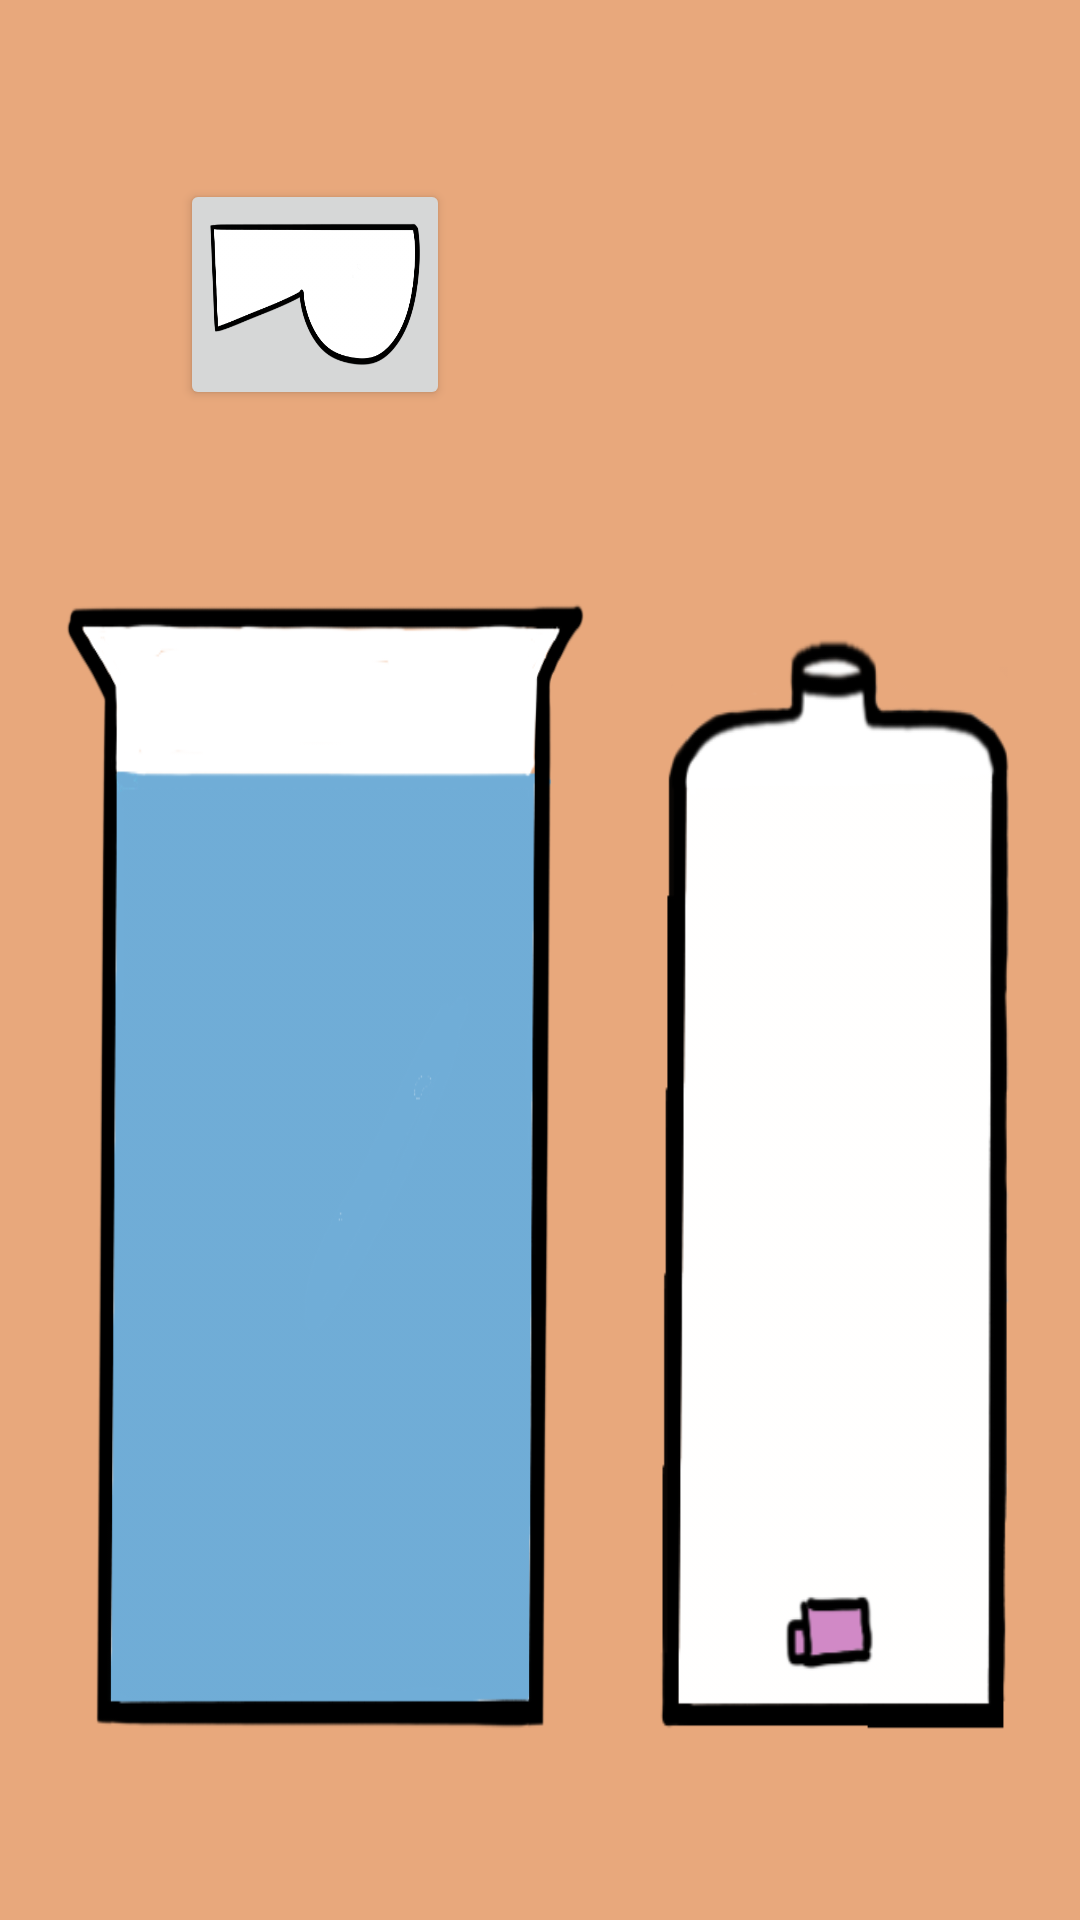

Icons on this 1080 × 1920 Android screen, each with the point to tap as (x=x, y=y):
spoonempty: (x=315, y=294)
